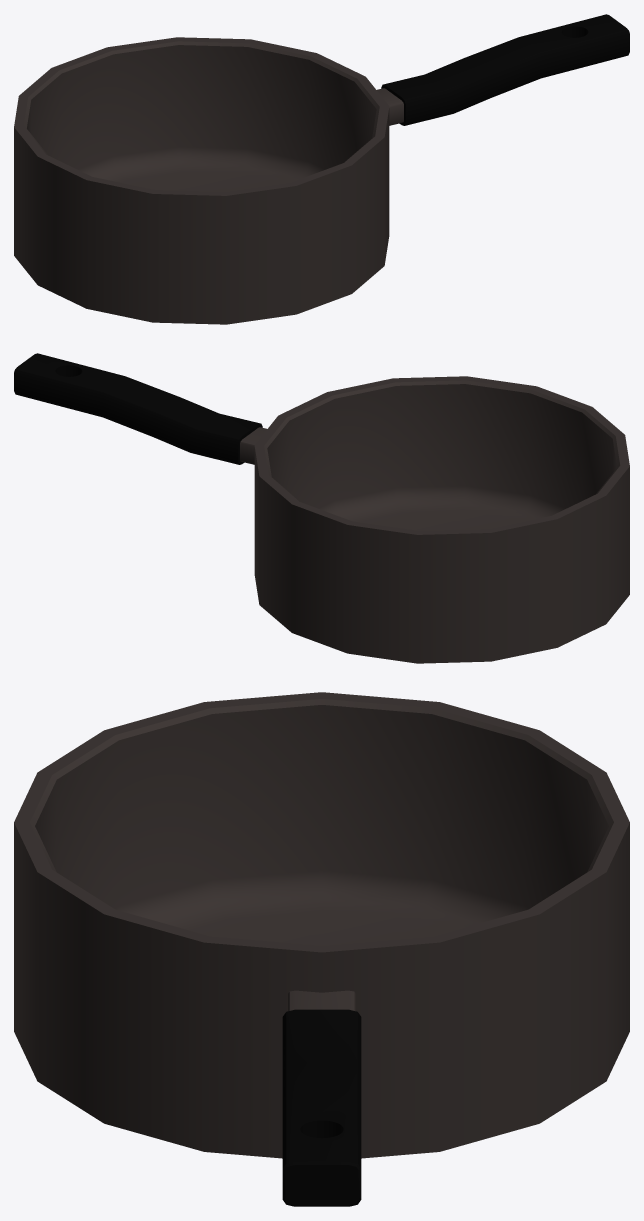
The model's file is LP_sauce_pot1.glb.
The picture shows the model from 3 angles, top to bottom: view 1: azimuth 30°, elevation 25°; view 2: azimuth 150°, elevation 25°; view 3: azimuth 270°, elevation 25°; orthographic projection. The views are drawn at different scales.
Parts seen in each view (by area): view 1: LP_sauce_pot1.001; view 2: LP_sauce_pot1.001; view 3: LP_sauce_pot1.001.
Part boxes in pixels (x1=…): LP_sauce_pot1.001: x1=14, y1=14, x2=629, y2=324; LP_sauce_pot1.001: x1=14, y1=353, x2=629, y2=663; LP_sauce_pot1.001: x1=14, y1=692, x2=629, y2=1206.
Bounding box in the file's own units: 0.476 × 0.1008 × 0.2687.
Materials: 1 (1 with a texture image).
